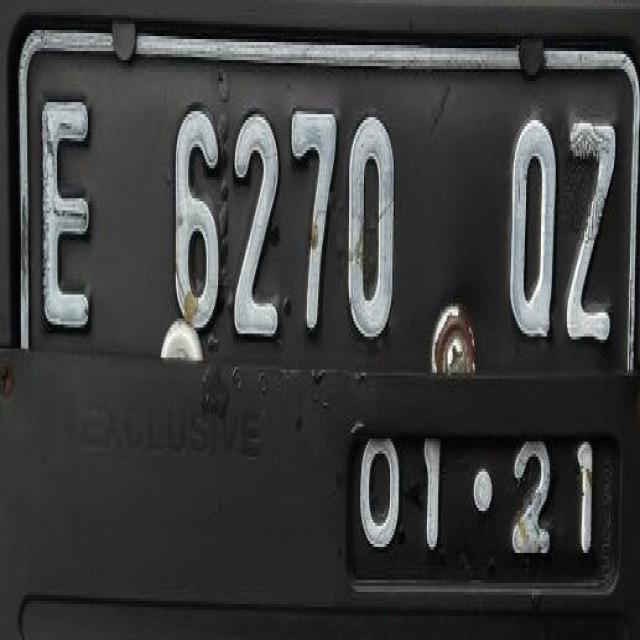plate: (15, 12, 637, 592)
